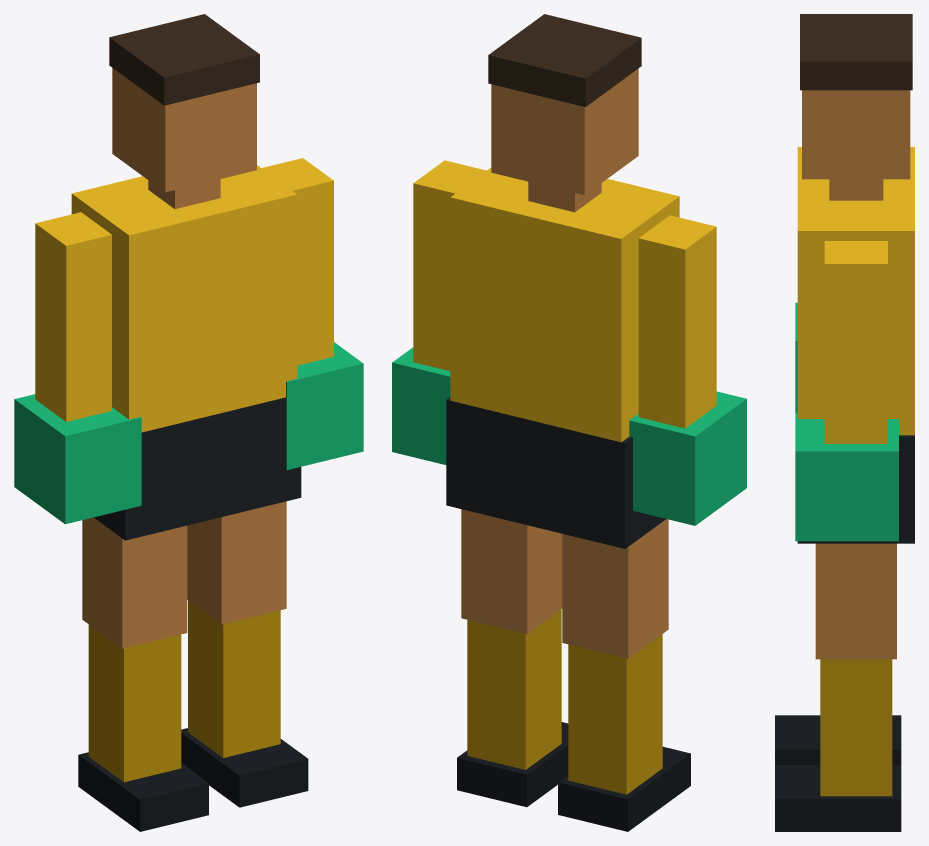
The model's file is goleiro.glb.
The picture shows the model from 3 angles, left to right: view 1: azimuth 30°, elevation 25°; view 2: azimuth 150°, elevation 25°; view 3: azimuth 270°, elevation 25°; orthographic projection. The views are drawn at different scales.
Parts seen in each view (by area): view 1: goleiro; view 2: goleiro; view 3: goleiro.
Boxes of the visible parts, x1,y1,x2,y2 form: goleiro: (14,14,363,831); goleiro: (392,14,746,831); goleiro: (775,14,914,831).
Size of the model in its own units: 0.78 by 1.84 by 0.31.
